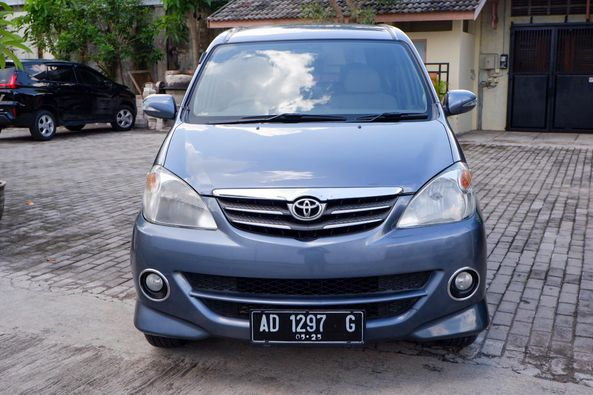plate: (248, 305, 369, 350)
